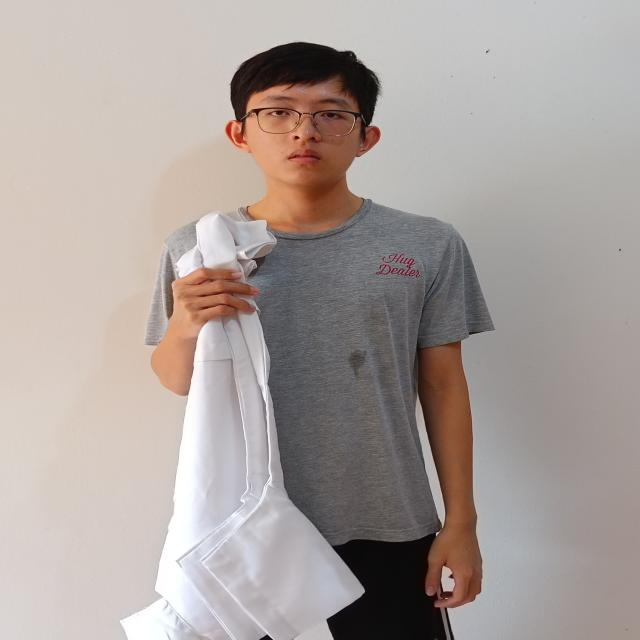person_without_labcoat: (123, 43, 493, 640)
